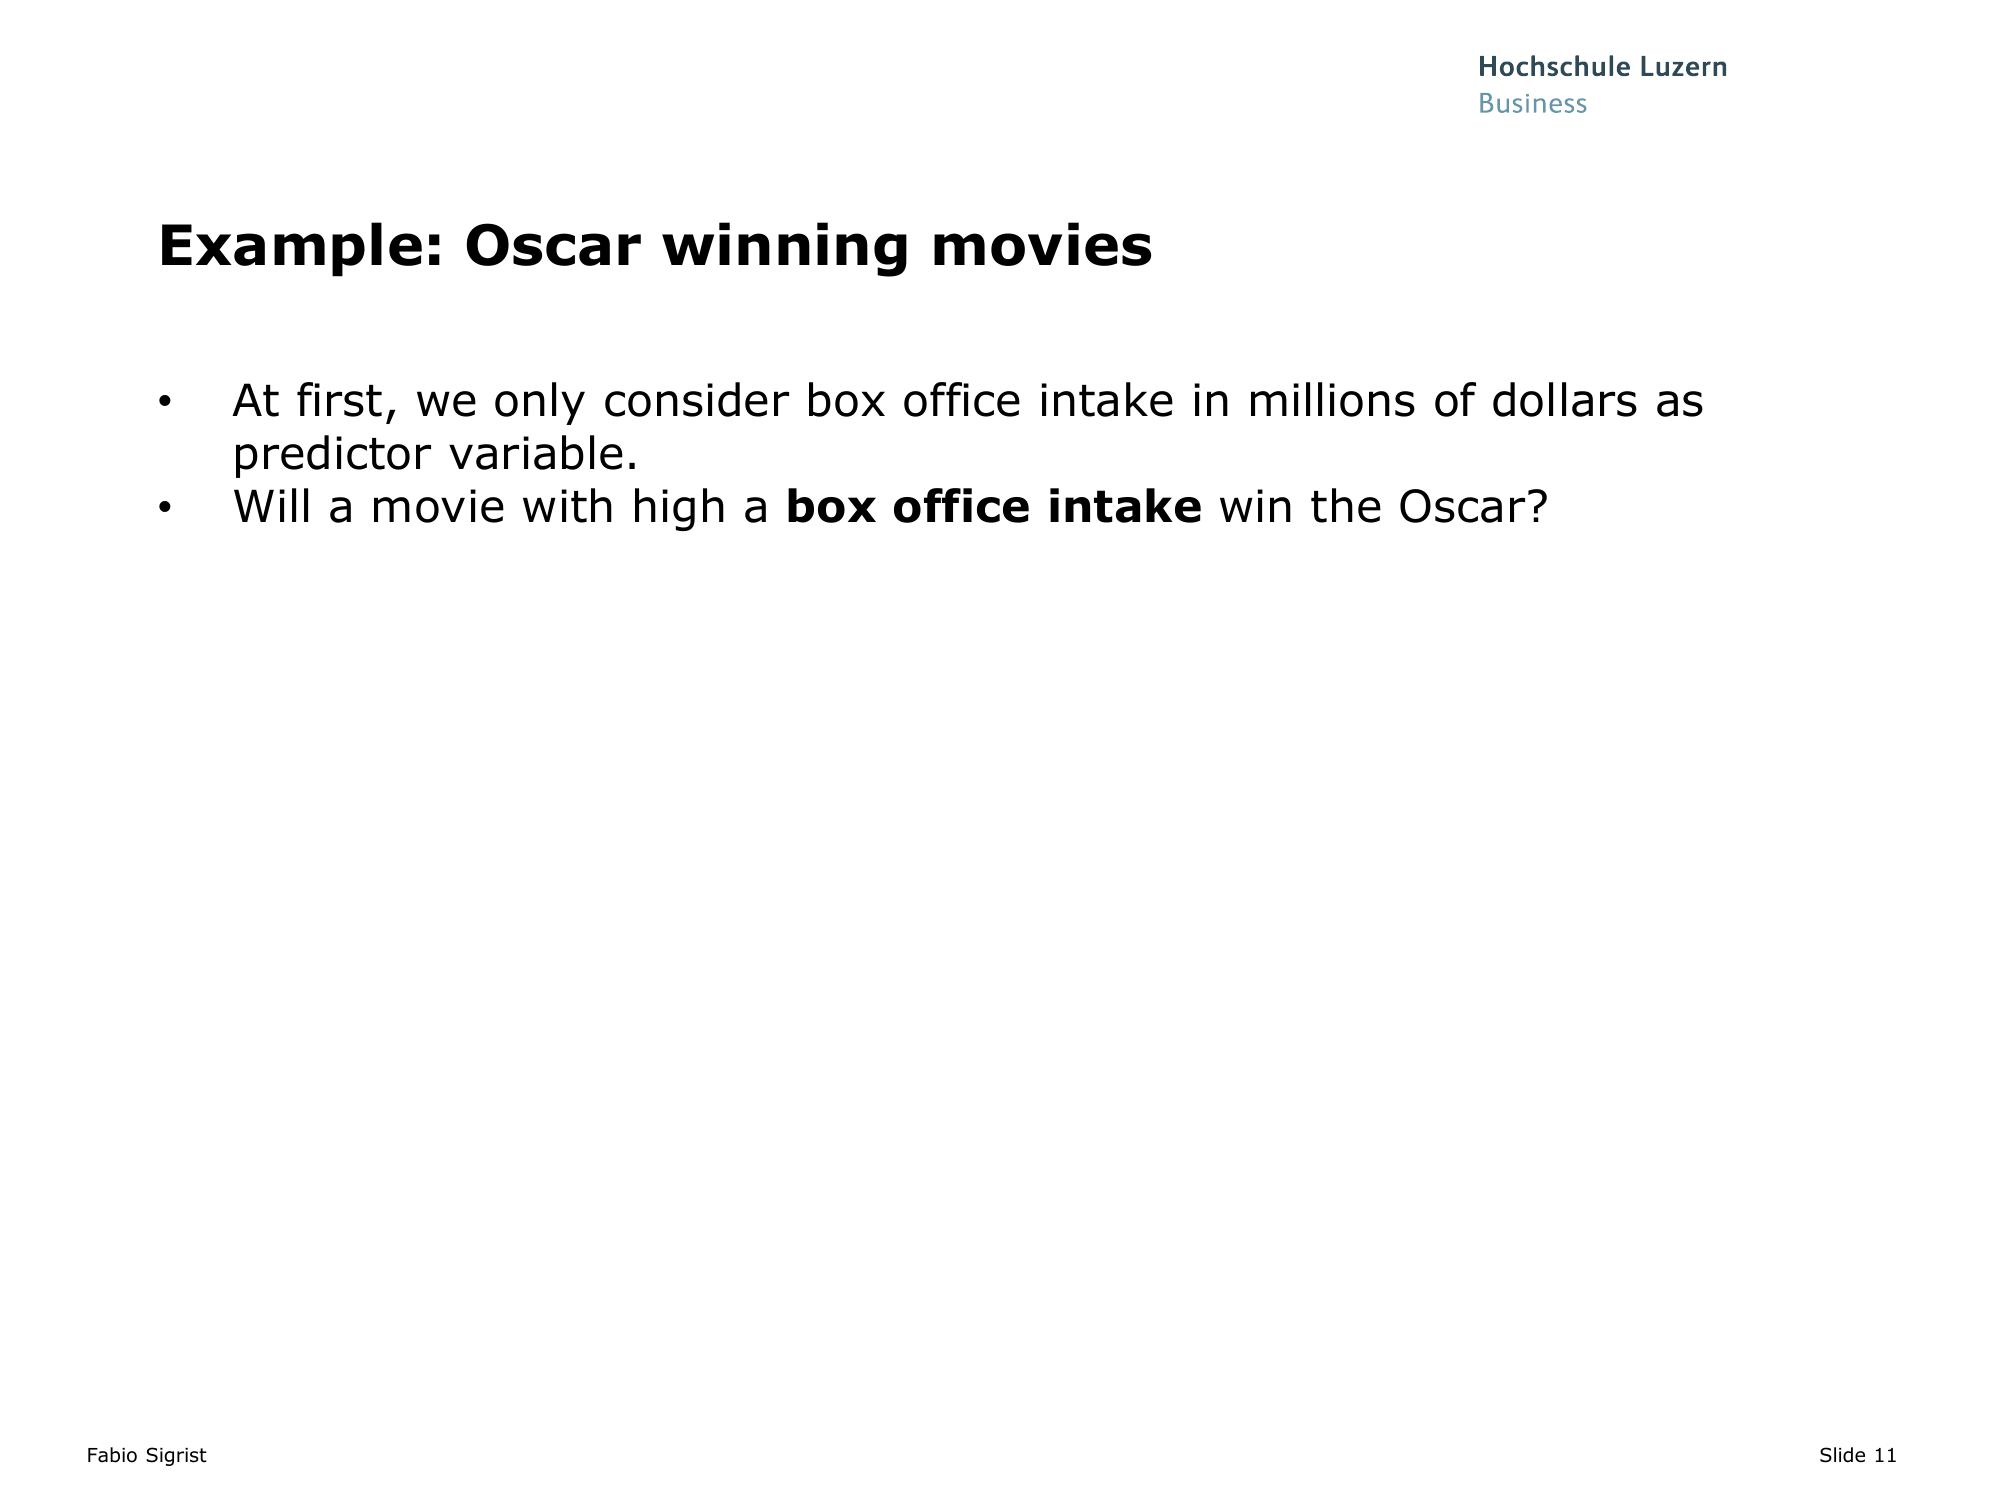Title: (146, 217, 1169, 277)
